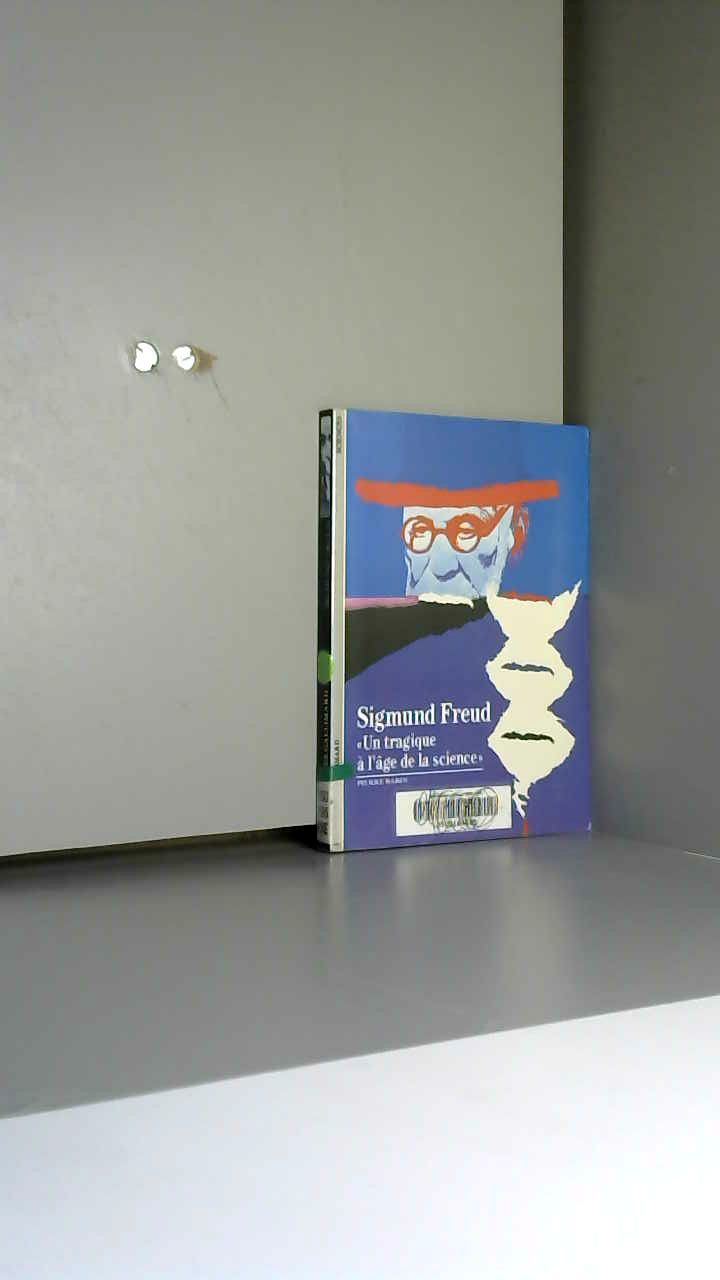book: (296, 381, 614, 877)
